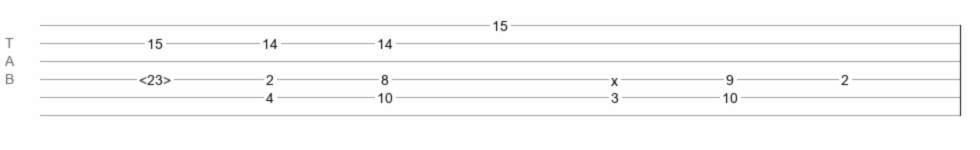10: (377, 90, 393, 100), (722, 90, 738, 100)
14: (262, 36, 278, 46), (377, 36, 393, 46)
15: (147, 36, 163, 46), (492, 18, 508, 28)
2: (266, 72, 274, 82), (841, 72, 849, 82)
3: (611, 90, 619, 100)
4: (266, 90, 274, 100)
8: (381, 72, 389, 82)
9: (726, 72, 734, 82)
harmonic: (139, 72, 171, 82)
x: (611, 73, 618, 81)
